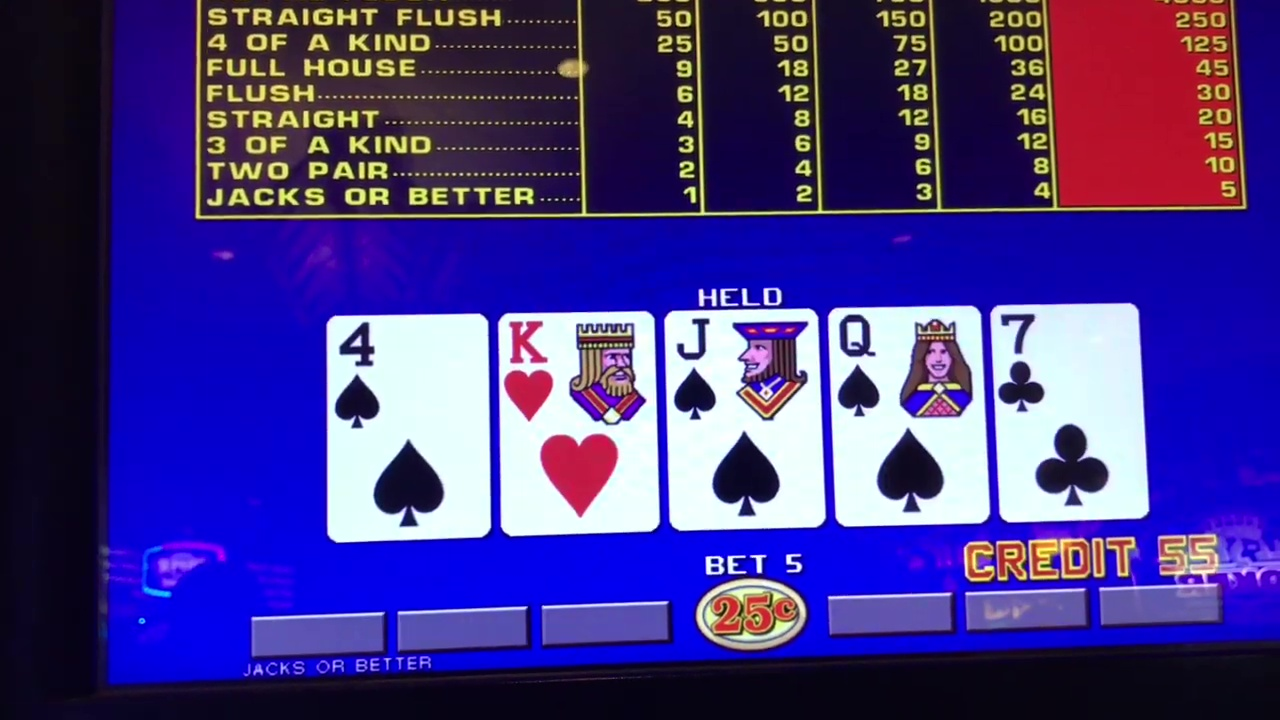C7: (998, 304, 1136, 523)
HK: (505, 314, 654, 532)
S4: (334, 316, 483, 543)
SJ: (671, 315, 812, 524)
SQ: (837, 311, 980, 525)
